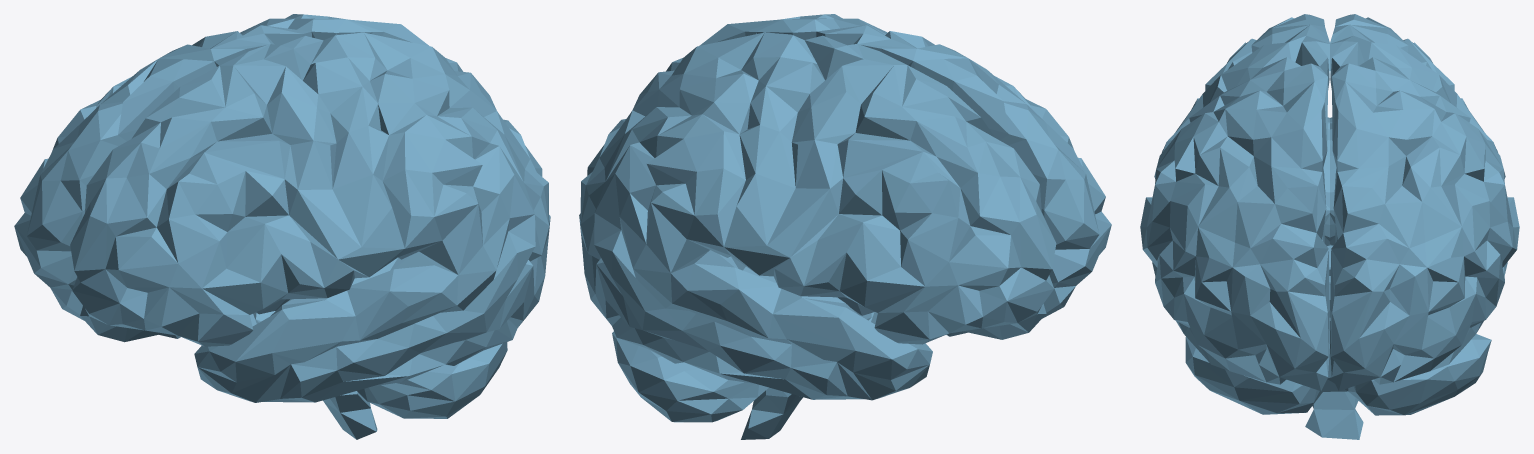
The model's file is brain.glb.
3 renders of one model, left to right at view 1: azimuth 30°, elevation 25°; view 2: azimuth 150°, elevation 25°; view 3: azimuth 270°, elevation 25°, orthographic. The views are drawn at different scales.
Visible parts, largest first — view 1: BRAIN; view 2: BRAIN; view 3: BRAIN.
Boxes of the visible parts, x1=… form: BRAIN: x1=14, y1=14, x2=550, y2=439; BRAIN: x1=579, y1=14, x2=1111, y2=439; BRAIN: x1=1140, y1=14, x2=1519, y2=439.
Size of the model in its own units: 214 by 180 by 172.
